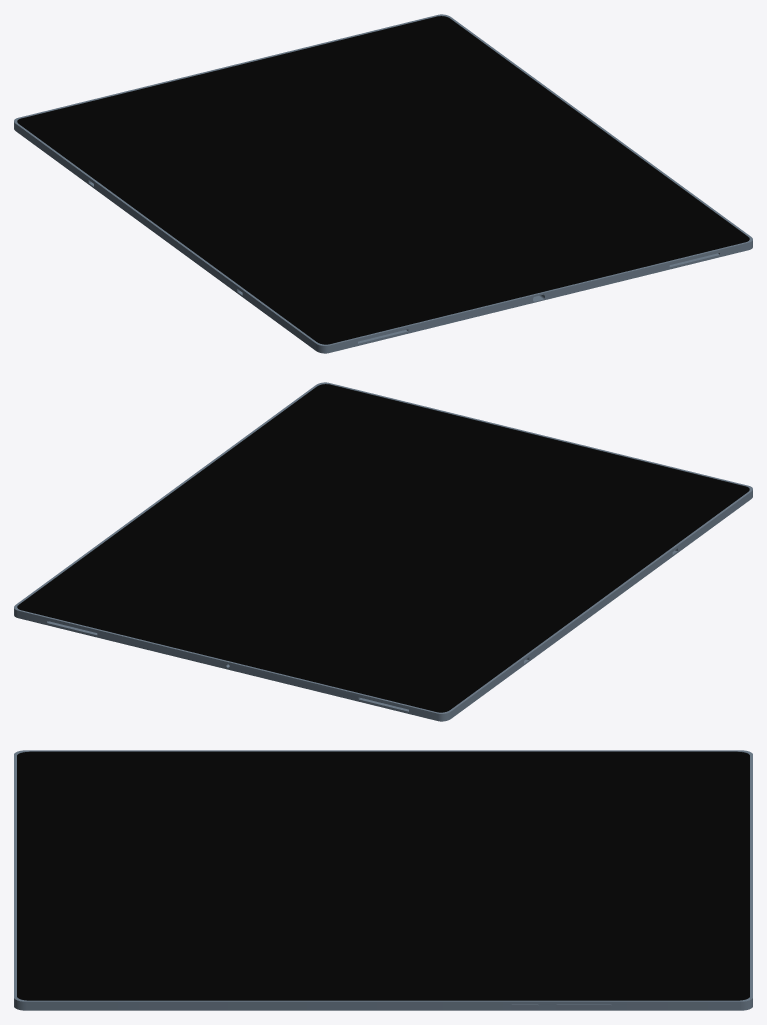
Rendered from tablet_new.fbx.
The picture shows the model from 3 angles, top to bottom: view 1: azimuth 30°, elevation 25°; view 2: azimuth 150°, elevation 25°; view 3: azimuth 270°, elevation 25°; orthographic projection. The views are drawn at different scales.
Visible parts, largest first — view 1: Cube.004, Cube.003; view 2: Cube.004, Cube.003; view 3: Cube.004, Cube.003.
Part boxes in pixels (x1,y1,x2,y2): Cube.004: (17, 16, 749, 344); Cube.003: (14, 14, 752, 353); Cube.004: (17, 384, 749, 712); Cube.003: (14, 382, 752, 721); Cube.004: (17, 751, 749, 1000); Cube.003: (14, 750, 752, 1010).
Bounding box in the file's own units: 48.32 × 0.9309 × 59.76.
